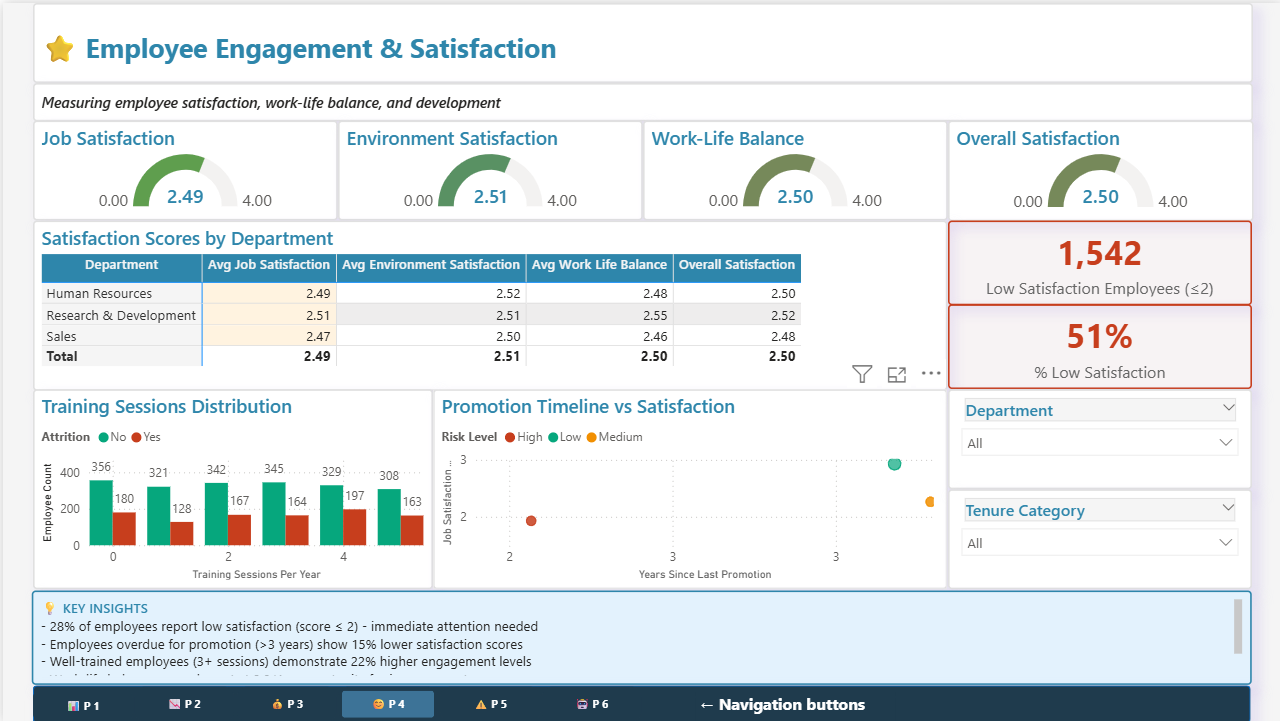

Layout of this report page (visuals, bound fields, positions):
{"tool":"powerbi","page":{"name":"Employee Engagement","canvas":[1280,720],"ordinal":3},"visuals":[{"type":"textbox","box":[30,0,1220,80],"z":0},{"type":"textbox","box":[30.3,80,1219.6,38],"z":1000},{"type":"gauge","title":"Job Satisfaction","fields":{"Y":["05. Performance & Satisfaction.Avg Job Satisfaction"]},"box":[30.3,118,305,100],"z":2000},{"type":"gauge","title":"Environment Satisfaction","fields":{"Y":["05. Performance & Satisfaction.Avg Environment Satisfaction"]},"box":[335,117,305,100],"z":3000},{"type":"gauge","title":"Work-Life Balance","fields":{"Y":["05. Performance & Satisfaction.Avg Work Life Balance"]},"box":[639.7,117,305,100],"z":4000},{"type":"gauge","fields":{"Y":["05. Performance & Satisfaction.Overall Satisfaction"]},"box":[944.4,117,305.5,100.6],"z":5000},{"type":"pivotTable","title":"Satisfaction Scores by Department","fields":{"Rows":["HR_Analytics_Enhanced.Department"],"Values":["05. Performance & Satisfaction.Avg Job Satisfaction","05. Performance & Satisfaction.Avg Environment Satisfaction","05. Performance & Satisfaction.Avg Work Life Balance","05. Performance & Satisfaction.Overall Satisfaction"]},"box":[30.3,218,914,170],"z":6000},{"type":"card","fields":{"Values":["05. Performance & Satisfaction.Low Satisfaction Employees"]},"box":[944.7,217,304,85],"z":7000},{"type":"card","fields":{"Values":["05. Performance & Satisfaction.% Low Satisfaction"]},"box":[944.7,301,304,85],"z":8000},{"type":"clusteredColumnChart","title":"Training Sessions Distribution","fields":{"Category":["HR_Analytics_Enhanced.TrainingTimesLastYear"],"Y":["01. Basic KPIs.Total Employees"],"Series":["HR_Analytics_Enhanced.Attrition"]},"box":[30,385.8,400,200],"z":9000},{"type":"scatterChart","title":"Promotion Timeline vs Satisfaction","fields":{"X":["Avg(HR_Analytics_Enhanced.YearsSinceLastPromotion)"],"Y":["05. Performance & Satisfaction.Avg Job Satisfaction"],"Series":["HR_Analytics_Enhanced.Attrition_Risk_Level"],"Size":["01. Basic KPIs.Total Employees"]},"box":[430,385.8,514,200],"z":10000},{"type":"slicer","fields":{"Values":["HR_Analytics_Enhanced.Department"]},"box":[944.4,386.1,304.3,100],"z":11000},{"type":"slicer","fields":{"Values":["HR_Analytics_Enhanced.Tenure_Category"]},"box":[944.4,485.8,304,100],"z":12000},{"type":"textbox","box":[28.8,587,1220,94],"z":13000},{"type":"shape","box":[30,682.5,1217.5,37.5],"z":13001},{"type":"textbox","box":[692.5,685,200,33],"z":13002},{"type":"actionButton","box":[30,685,100,35],"z":13003},{"type":"actionButton","box":[131.8,684,100,35],"z":13004},{"type":"actionButton","box":[233.5,684,100,35],"z":13005},{"type":"actionButton","box":[335.2,684,100,35],"z":13006},{"type":"actionButton","box":[437,684,100,35],"z":13007},{"type":"actionButton","box":[538.8,683.8,100,35],"z":13008}]}

Visuals, with their boxes in screenshot pixels (x1, y1, x2, y2), scaled from the page's 1280x720 canvas onto the 1280x721 screenshot:
textbox: (left=30, top=0, right=1250, bottom=80)
textbox: (left=30, top=80, right=1250, bottom=118)
"Job Satisfaction" gauge: (left=30, top=118, right=335, bottom=218)
"Environment Satisfaction" gauge: (left=335, top=117, right=640, bottom=217)
"Work-Life Balance" gauge: (left=640, top=117, right=945, bottom=217)
gauge - 05. Performance & Satisfaction.Overall Satisfaction: (left=944, top=117, right=1250, bottom=218)
"Satisfaction Scores by Department" pivotTable: (left=30, top=218, right=944, bottom=389)
card - 05. Performance & Satisfaction.Low Satisfaction Employees: (left=945, top=217, right=1249, bottom=302)
card - 05. Performance & Satisfaction.% Low Satisfaction: (left=945, top=301, right=1249, bottom=387)
"Training Sessions Distribution" clusteredColumnChart: (left=30, top=386, right=430, bottom=587)
"Promotion Timeline vs Satisfaction" scatterChart: (left=430, top=386, right=944, bottom=587)
slicer - HR_Analytics_Enhanced.Department: (left=944, top=387, right=1249, bottom=487)
slicer - HR_Analytics_Enhanced.Tenure_Category: (left=944, top=486, right=1248, bottom=587)
textbox: (left=29, top=588, right=1249, bottom=682)
shape: (left=30, top=683, right=1248, bottom=720)
textbox: (left=692, top=686, right=892, bottom=719)
actionButton: (left=30, top=686, right=130, bottom=720)
actionButton: (left=132, top=685, right=232, bottom=720)
actionButton: (left=234, top=685, right=334, bottom=720)
actionButton: (left=335, top=685, right=435, bottom=720)
actionButton: (left=437, top=685, right=537, bottom=720)
actionButton: (left=539, top=685, right=639, bottom=720)
